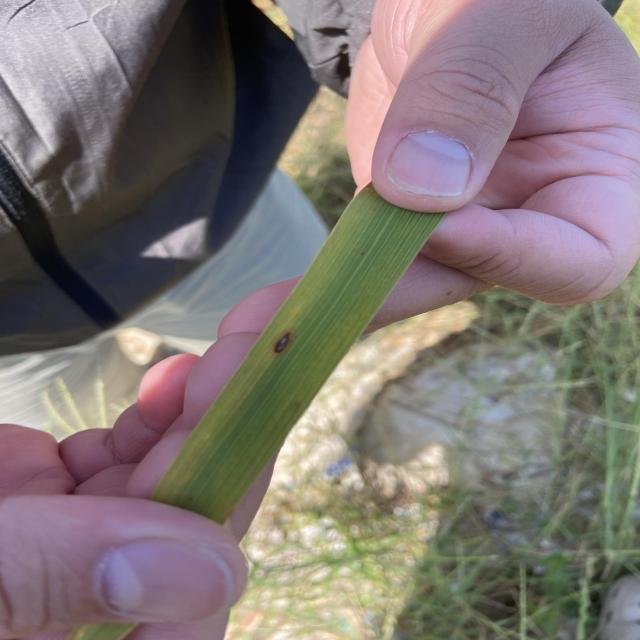Dom nau: (272, 331, 292, 354)
